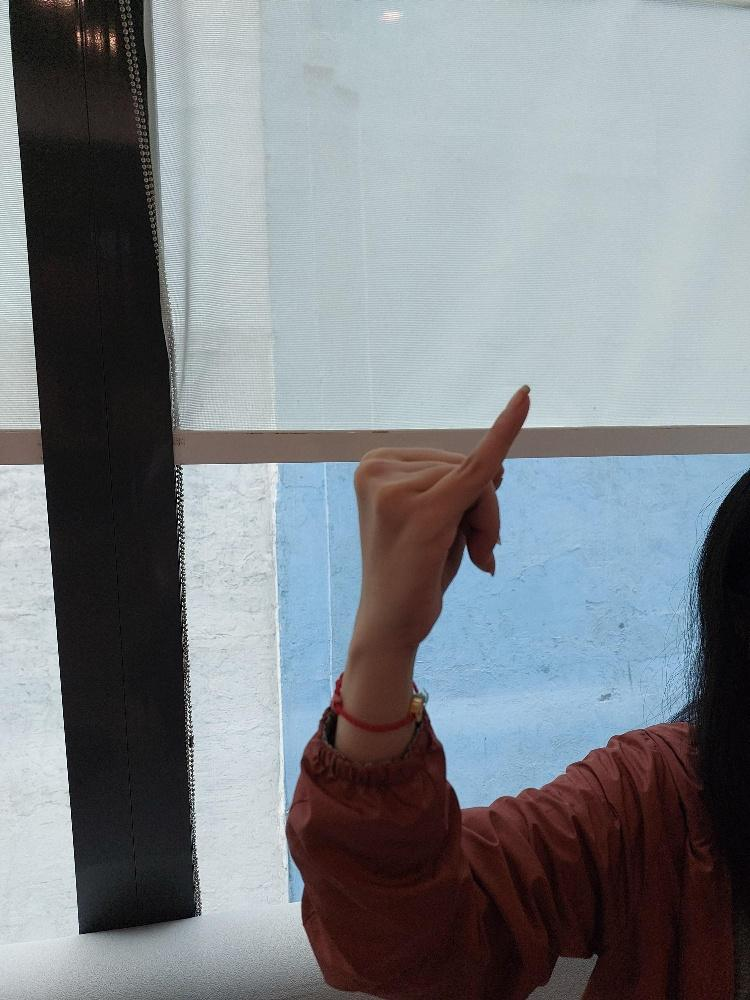j: (344, 376, 536, 651)
